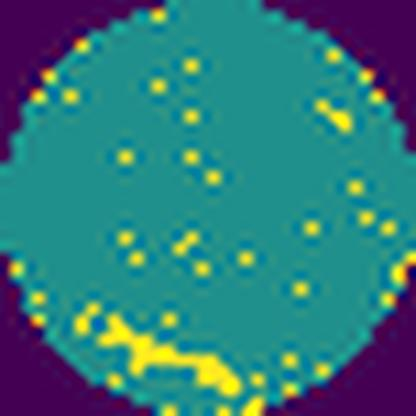Scratch: (93, 312, 246, 402)
